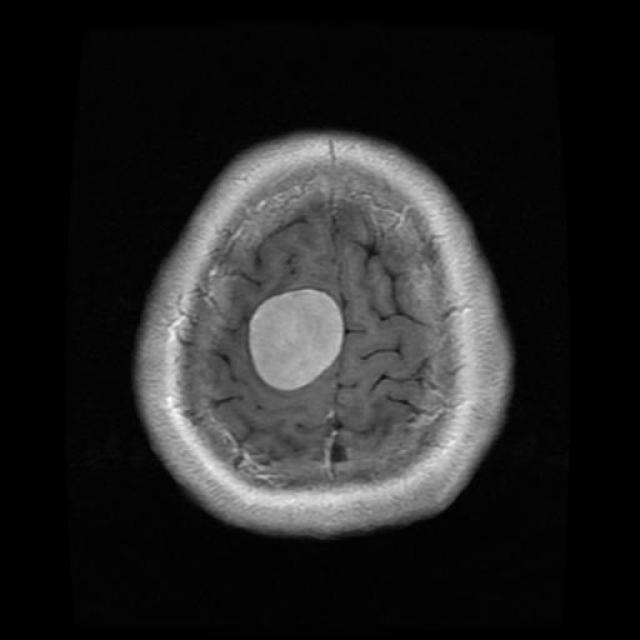meningioma: (249, 289, 344, 390)
